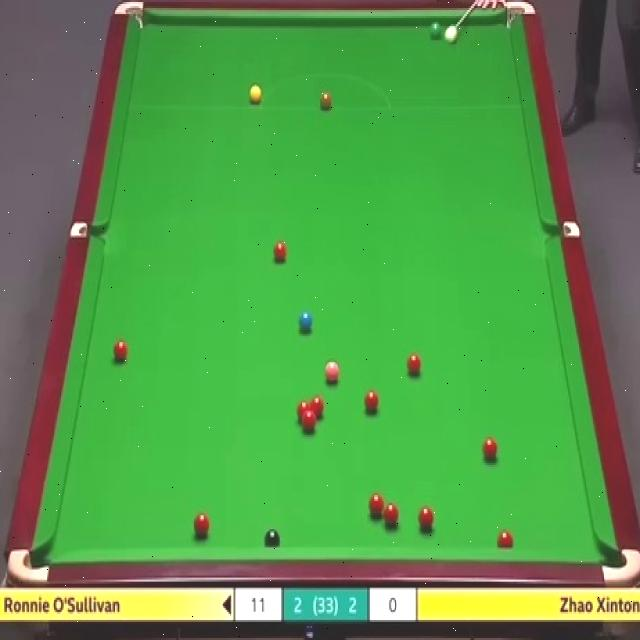black-ball: (264, 529, 282, 549)
blue-ball: (298, 310, 314, 331)
brown-ball: (319, 88, 332, 109)
green-ball: (428, 22, 442, 41)
pink-ball: (324, 361, 341, 386)
red-ball: (192, 512, 210, 538), (482, 436, 500, 462), (418, 507, 435, 534), (361, 388, 379, 413), (407, 352, 423, 378), (368, 494, 384, 519), (112, 337, 127, 362), (296, 400, 310, 426), (274, 239, 286, 266), (496, 529, 514, 547), (302, 413, 318, 433), (311, 396, 324, 420), (385, 495, 398, 515)
white-ball: (445, 27, 456, 46)
yellow-ball: (248, 87, 261, 103)
